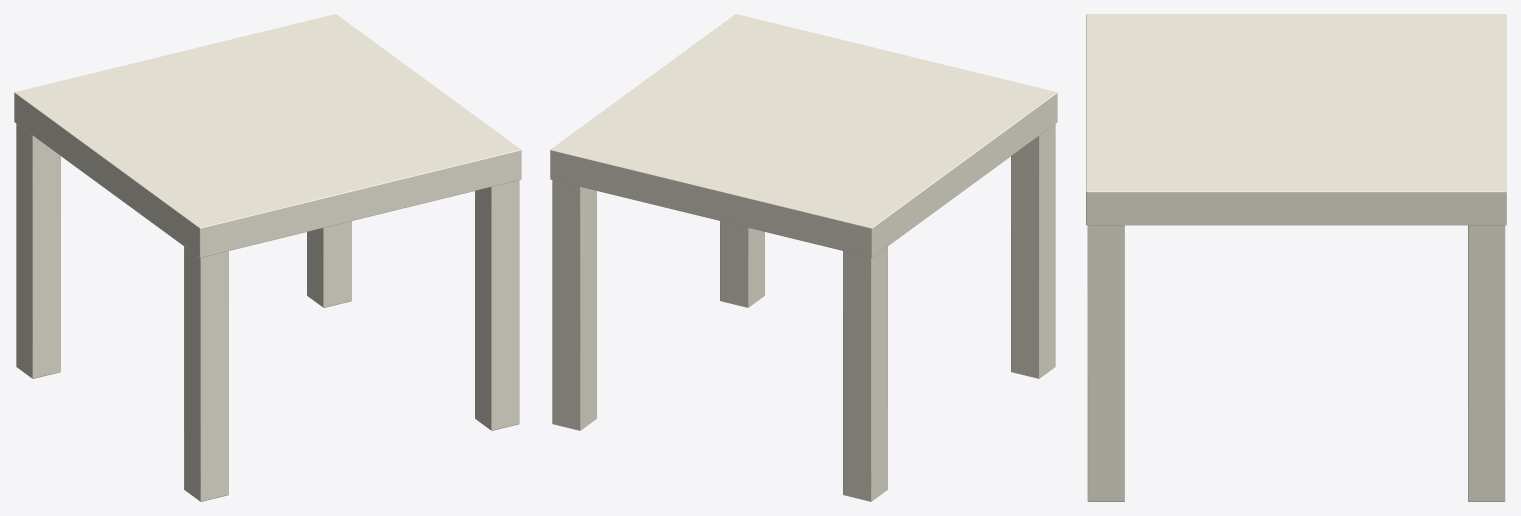
The model's file is LACK_30449908_55x55.glb.
3 renders of one model, left to right at view 1: azimuth 30°, elevation 25°; view 2: azimuth 150°, elevation 25°; view 3: azimuth 270°, elevation 25°, orthographic. The views are drawn at different scales.
Parts seen in each view (by area): view 1: table top_00167769_primitive0, table leg_00167768_006_primitive0, table leg_00167768_007_primitive0, table leg_00167768_005_primitive0, table leg_00167768_001_primitive0; view 2: table top_00167769_primitive0, table leg_00167768_005_primitive0, table leg_00167768_001_primitive0, table leg_00167768_006_primitive0, table leg_00167768_007_primitive0; view 3: table top_00167769_primitive0, table leg_00167768_001_primitive0, table leg_00167768_007_primitive0.
Boxes of the visible parts, x1=… form: table top_00167769_primitive0: x1=14, y1=14, x2=521, y2=257; table leg_00167768_006_primitive0: x1=184, y1=246, x2=228, y2=501; table leg_00167768_007_primitive0: x1=475, y1=180, x2=519, y2=430; table leg_00167768_005_primitive0: x1=16, y1=124, x2=60, y2=378; table leg_00167768_001_primitive0: x1=307, y1=221, x2=351, y2=307; table top_00167769_primitive0: x1=550, y1=14, x2=1057, y2=257; table leg_00167768_005_primitive0: x1=843, y1=246, x2=887, y2=501; table leg_00167768_001_primitive0: x1=552, y1=180, x2=596, y2=430; table leg_00167768_006_primitive0: x1=1011, y1=124, x2=1055, y2=378; table leg_00167768_007_primitive0: x1=720, y1=221, x2=764, y2=307; table top_00167769_primitive0: x1=1086, y1=14, x2=1506, y2=225; table leg_00167768_001_primitive0: x1=1468, y1=225, x2=1505, y2=501; table leg_00167768_007_primitive0: x1=1087, y1=225, x2=1124, y2=501.
Size of the model in its own units: 0.55 by 0.449 by 0.55.
Materials: 5 (4 with a texture image).
